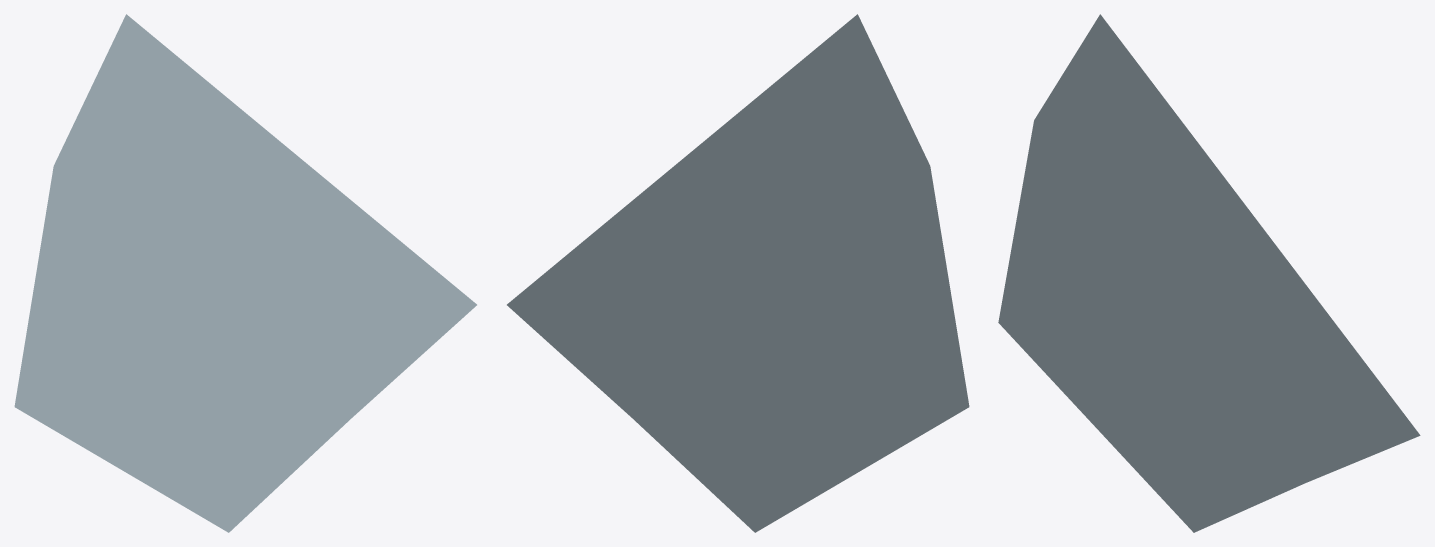
3 renders of one model, left to right at view 1: azimuth 30°, elevation 25°; view 2: azimuth 150°, elevation 25°; view 3: azimuth 330°, elevation 25°, orthographic. The views are drawn at different scales.
Parts seen in each view (by area): view 1: pCube48; view 2: pCube48; view 3: pCube48.
Boxes of the visible parts, left/top/right/bottom form: pCube48: left=14, top=14, right=476, bottom=532; pCube48: left=507, top=14, right=969, bottom=532; pCube48: left=998, top=14, right=1420, bottom=532.
Size of the model in its own units: 35.82 by 40.21 by 7.63e-06.
